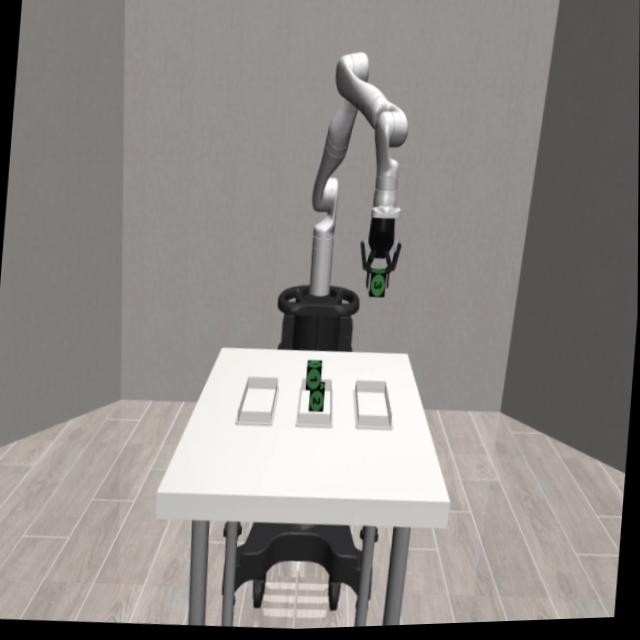cube1: (305, 361, 323, 395)
cube2: (310, 384, 325, 413)
cube3: (369, 269, 389, 302)
